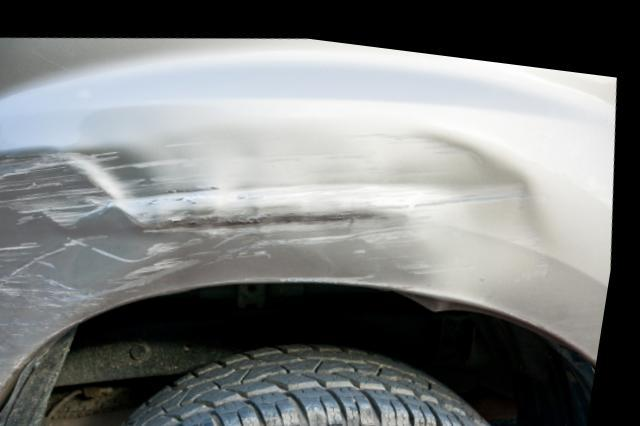dent: (0, 109, 552, 402)
